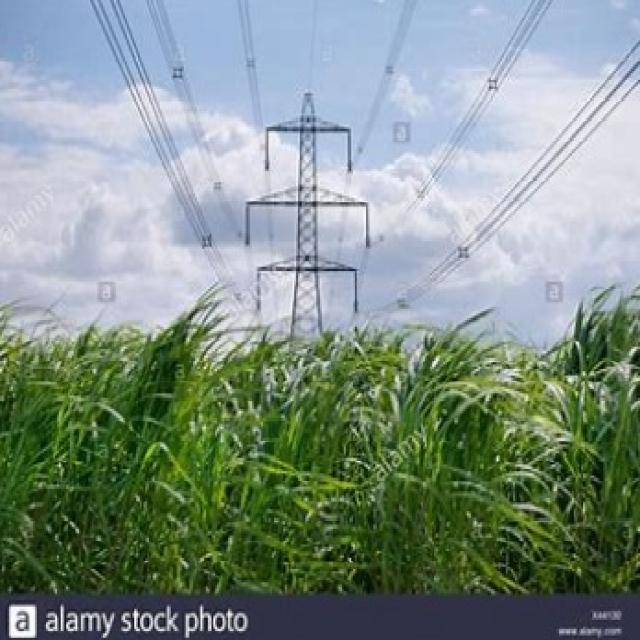utility poles: (237, 85, 373, 591)
